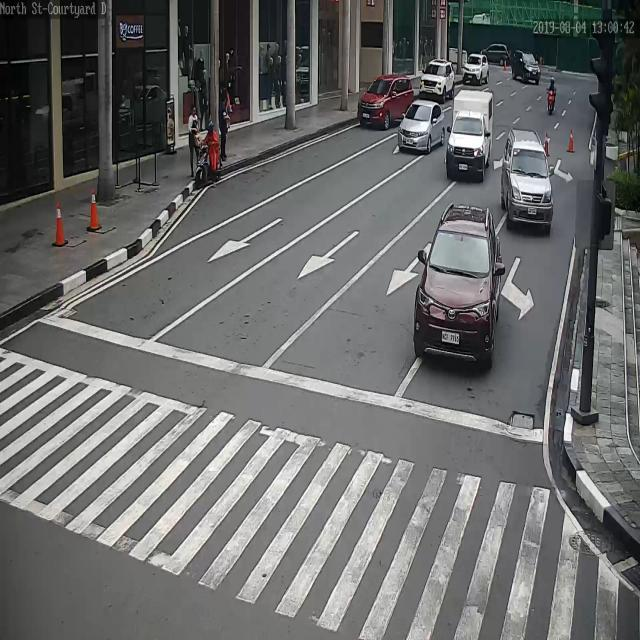car: (414, 202, 509, 366), (503, 125, 552, 232), (358, 75, 417, 129), (397, 99, 449, 154), (418, 59, 457, 102), (513, 54, 542, 85), (462, 52, 490, 83), (481, 43, 509, 65)
jeepney: (196, 125, 224, 186), (546, 77, 559, 116)
van: (447, 90, 497, 178)
